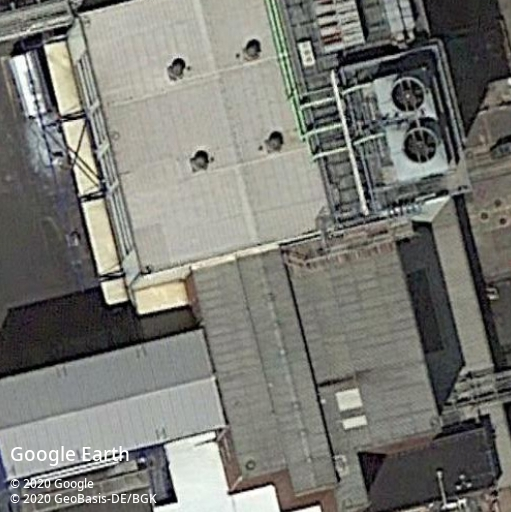Vent: (390, 76, 427, 113), (401, 127, 439, 163)
